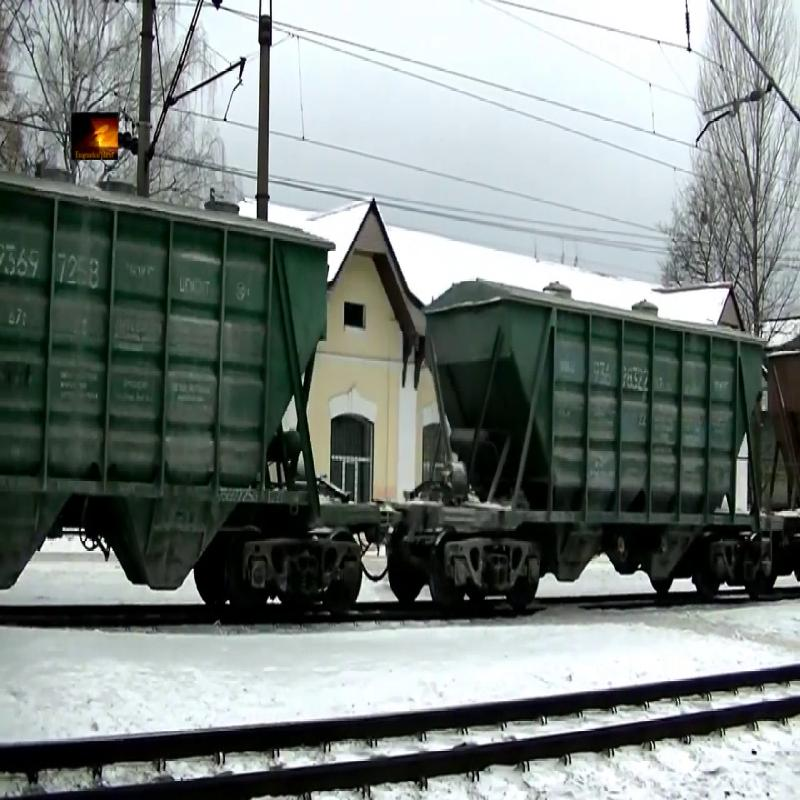train: (1, 172, 362, 608), (395, 277, 765, 621)
